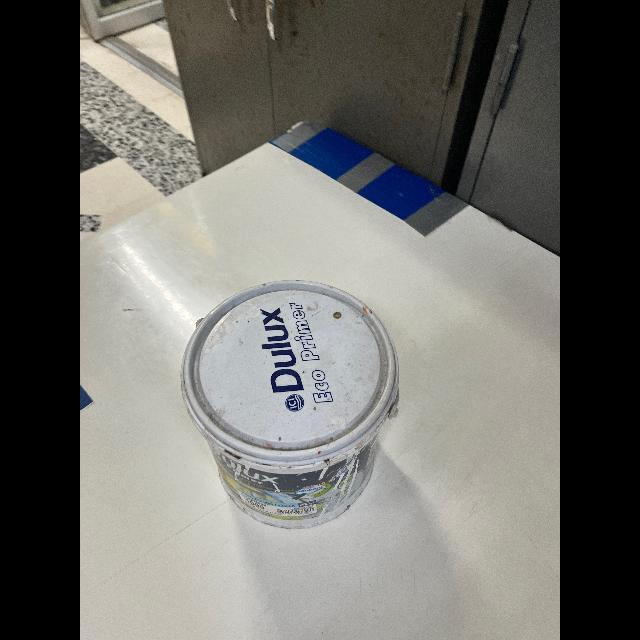paint_bucket: (165, 282, 422, 538)
